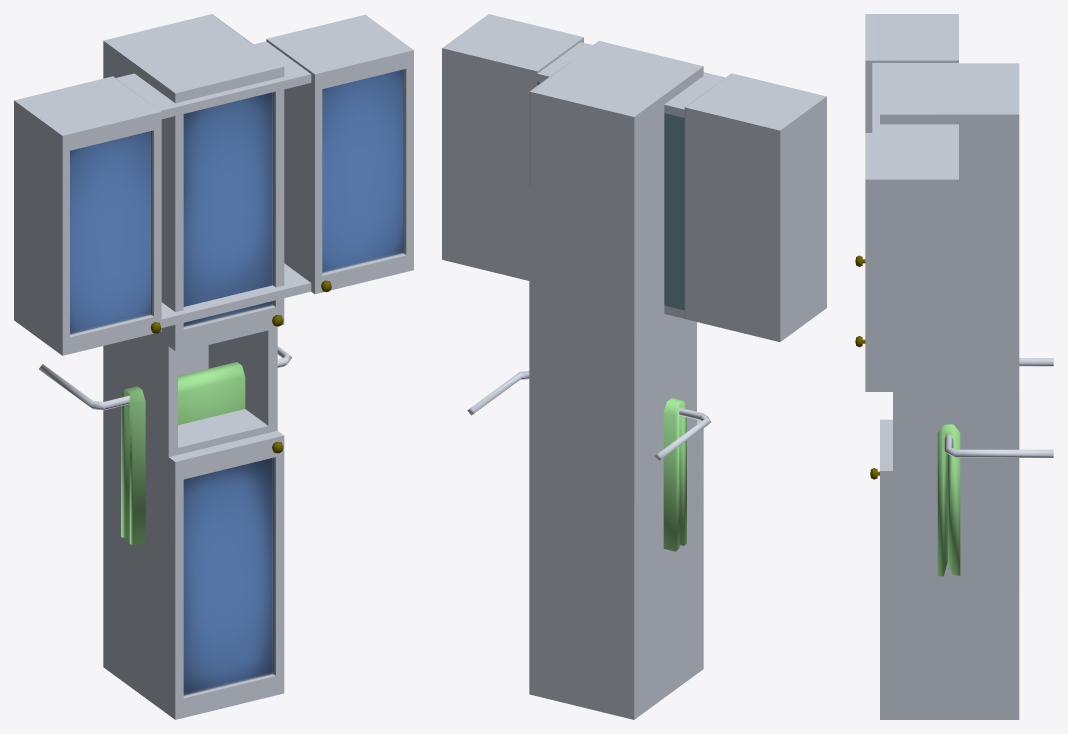
Rendered from Bathroom_props_3.fbx.
The picture shows the model from 3 angles, left to right: view 1: azimuth 30°, elevation 25°; view 2: azimuth 150°, elevation 25°; view 3: azimuth 270°, elevation 25°; orthographic projection. The views are drawn at different scales.
Visible parts, largest first — view 1: Bathroom_Cabinet, Bathroom_mirror, Towel_green; view 2: Bathroom_Cabinet, Bathroom_mirror, Towel_green; view 3: Bathroom_Cabinet, Bathroom_mirror, Towel_green.
Part boxes in pixels (bbox=[...]): Bathroom_Cabinet: bbox=[103, 14, 284, 719]; Bathroom_mirror: bbox=[14, 14, 413, 355]; Towel_green: bbox=[39, 346, 291, 545]; Bathroom_Cabinet: bbox=[529, 41, 703, 719]; Bathroom_mirror: bbox=[442, 14, 826, 341]; Towel_green: bbox=[467, 371, 710, 551]; Bathroom_Cabinet: bbox=[870, 63, 1019, 719]; Bathroom_mirror: bbox=[855, 14, 958, 391]; Towel_green: bbox=[937, 358, 1053, 576].
Bounding box in the file's own units: 120 × 205 × 60.86.
